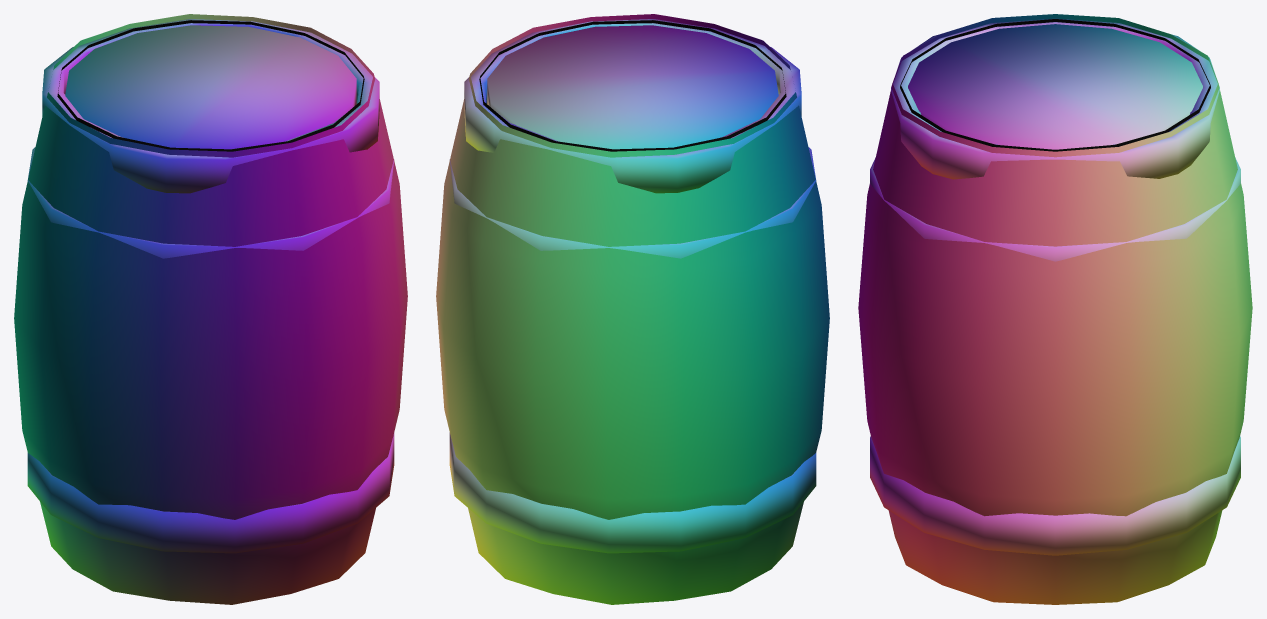
The model's file is SM_Prop_Camp_Barrel.fbx.
3 renders of one model, left to right at view 1: azimuth 30°, elevation 25°; view 2: azimuth 150°, elevation 25°; view 3: azimuth 270°, elevation 25°, orthographic.
Visible parts, largest first — view 1: SM_Prop_Camp_Barrel; view 2: SM_Prop_Camp_Barrel; view 3: SM_Prop_Camp_Barrel.
Part boxes in pixels (x1,y1,x2,y2): SM_Prop_Camp_Barrel: (14, 14, 407, 604); SM_Prop_Camp_Barrel: (436, 14, 829, 604); SM_Prop_Camp_Barrel: (858, 14, 1252, 604).
Bounding box in the file's own units: 0.6873 × 0.8783 × 0.6873.
